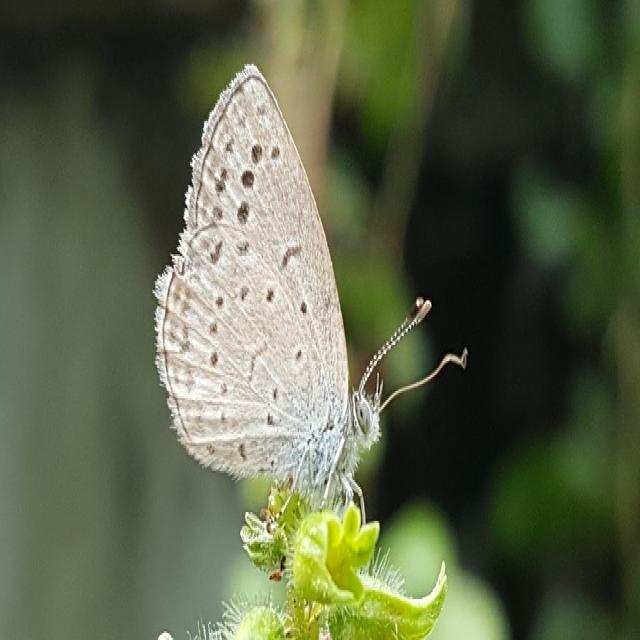butterfly: (151, 62, 467, 546)
